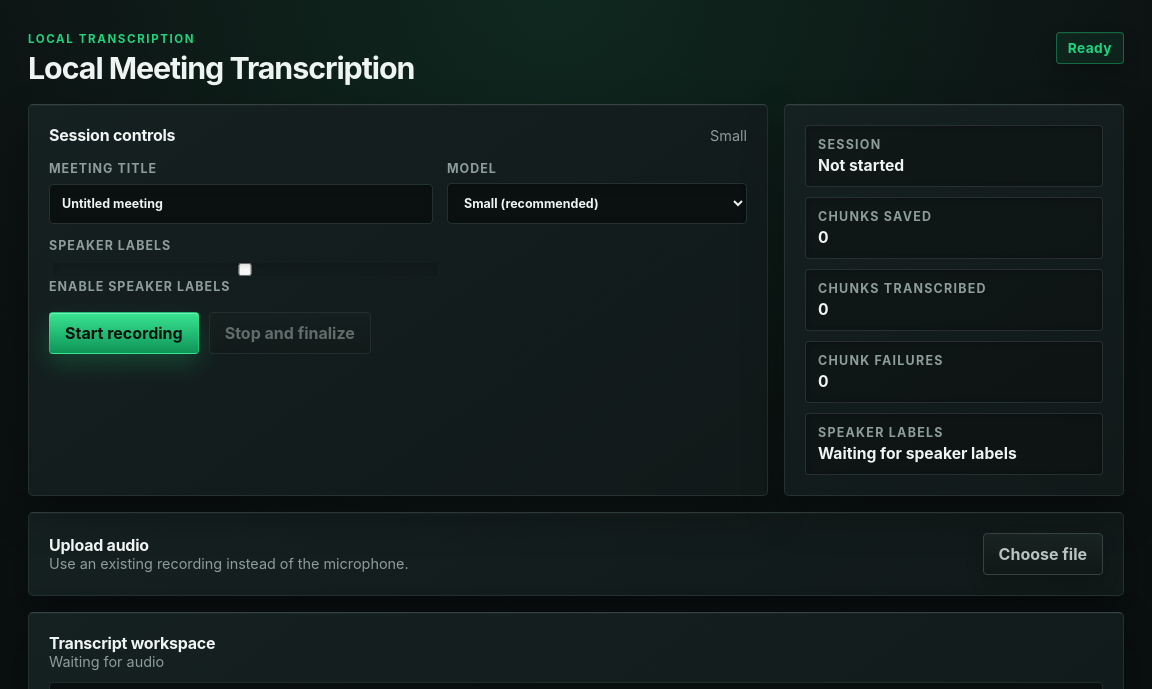
Test: App › shows an error when live chunk upload fails
The image size is (1152, 689).
Click the button "Start recording" at point(124, 333), box left=49, top=312, right=199, bottom=354
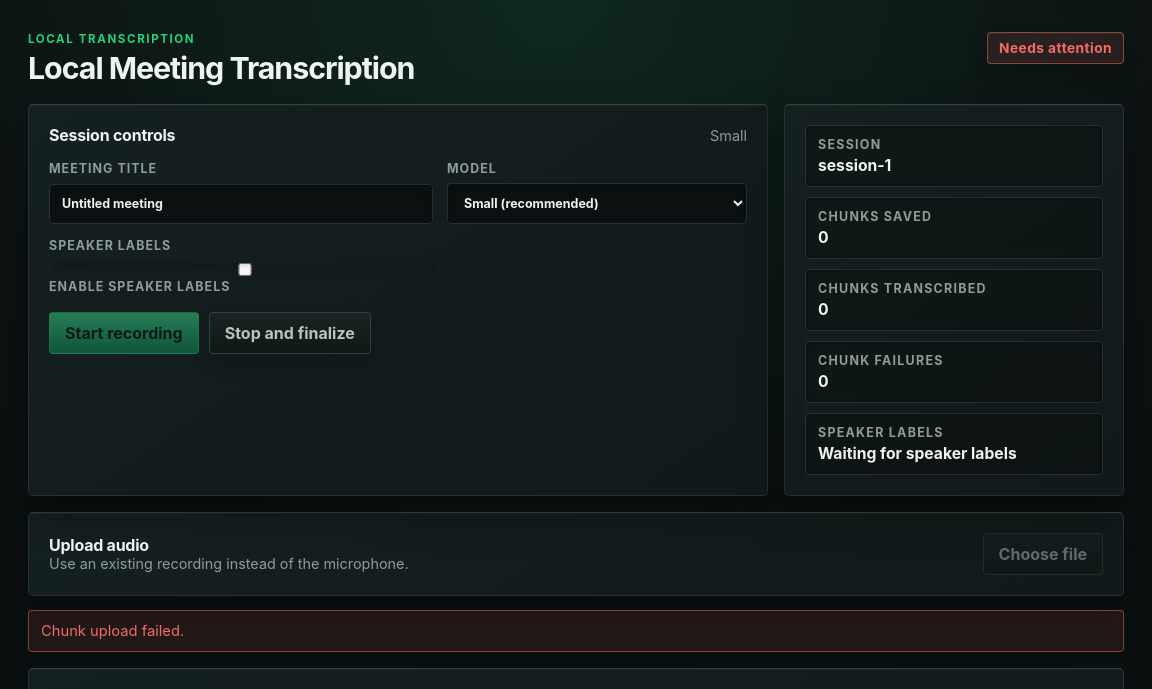
Expected: the message "Chunk upload failed." is shown, left=28, top=610, right=1124, bottom=652
Expected: the message "Needs attention" is shown, left=987, top=32, right=1124, bottom=64
